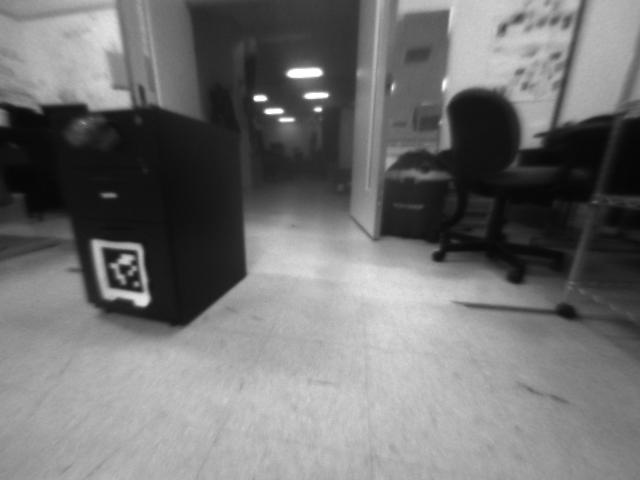handle: (67, 114, 111, 148)
